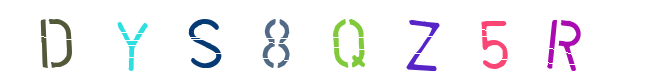5: (453, 0, 533, 80)
8: (290, 0, 370, 80)
D: (92, 0, 172, 80)
Q: (291, 0, 371, 80)
R: (460, 0, 540, 80)
S: (165, 0, 245, 80)
Y: (116, 0, 196, 80)
Z: (309, 0, 389, 80)
